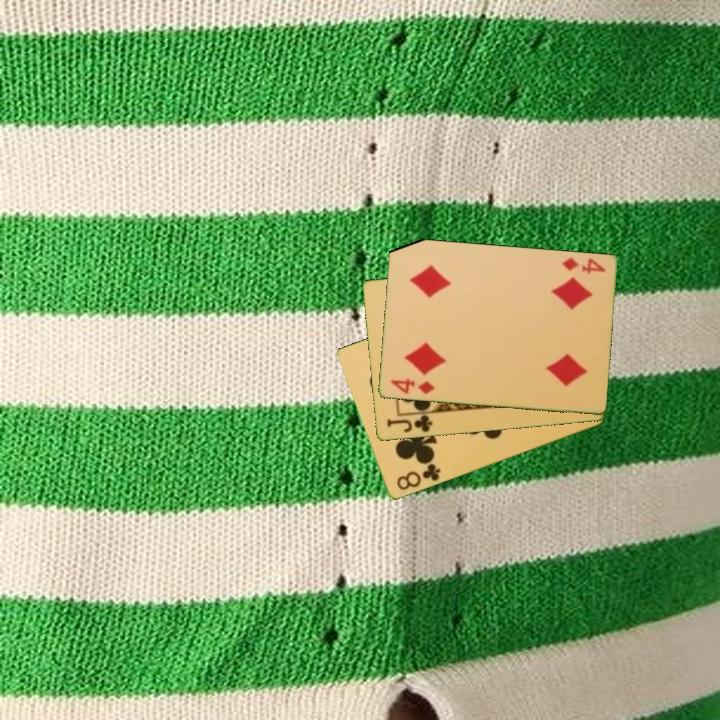4d: (558, 254, 608, 277), (386, 375, 437, 397)
8c: (393, 460, 443, 493)
Jc: (383, 412, 435, 436)
